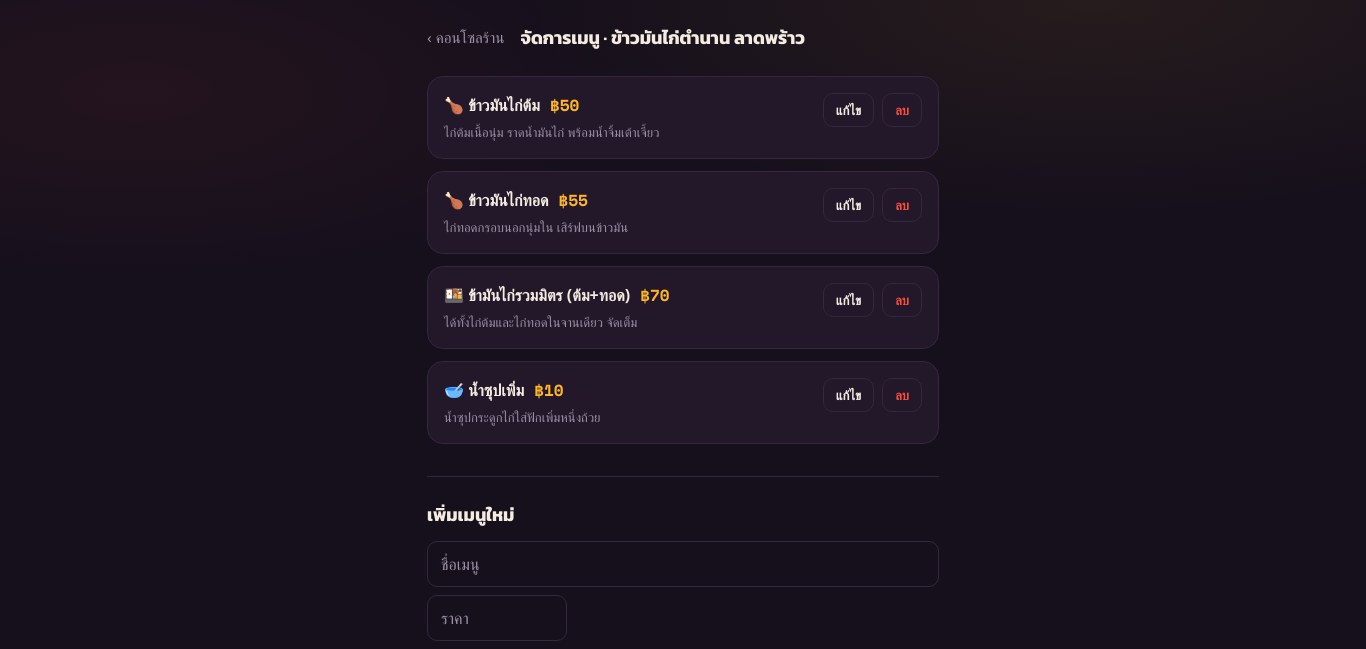
Test: MerchantMenu — จัดการเมนู (CRUD) › แก้ไขราคา → อัปเดตในลิสต์
The image size is (1366, 649).
Click the button with aria-label "แก้ไข ข้าวมันไก่ต้ม" at (848, 110), box [823,93,874,127]
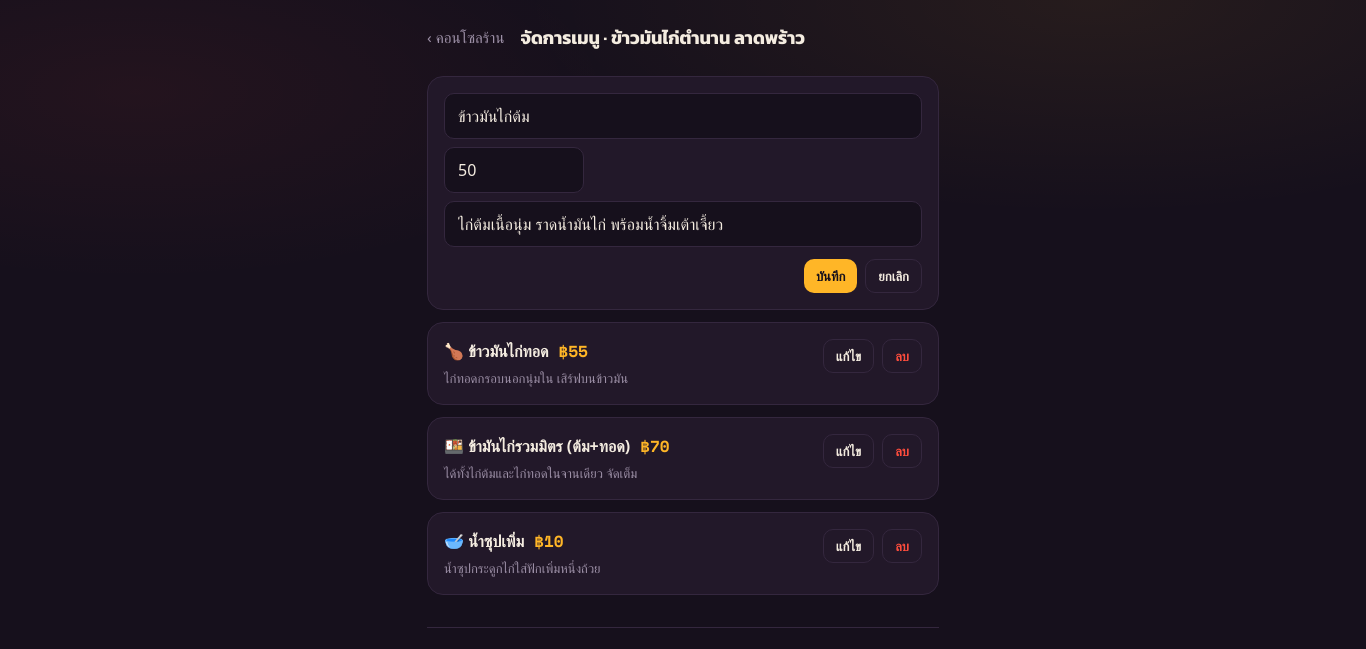
Replace the text in the field named "ราคา" with "60" at (514, 170), box [444,147,584,193]
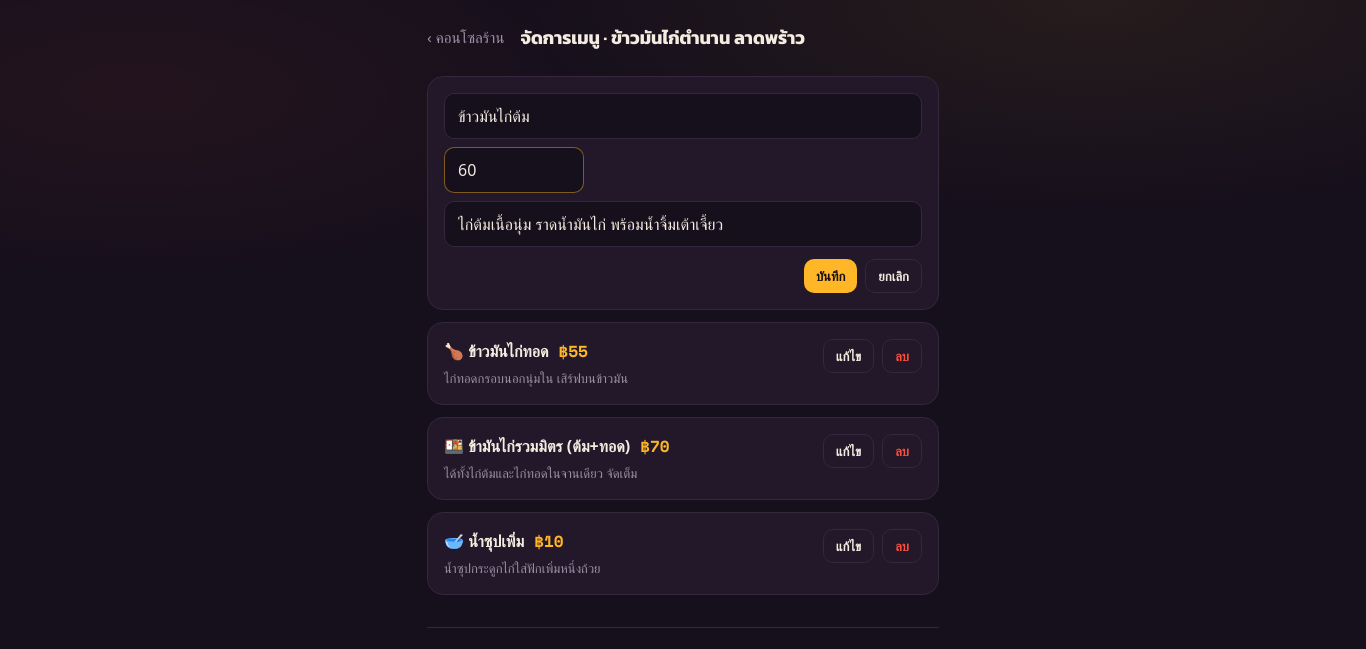
Click the button "บันทึก" at (831, 276), box [804,259,857,293]
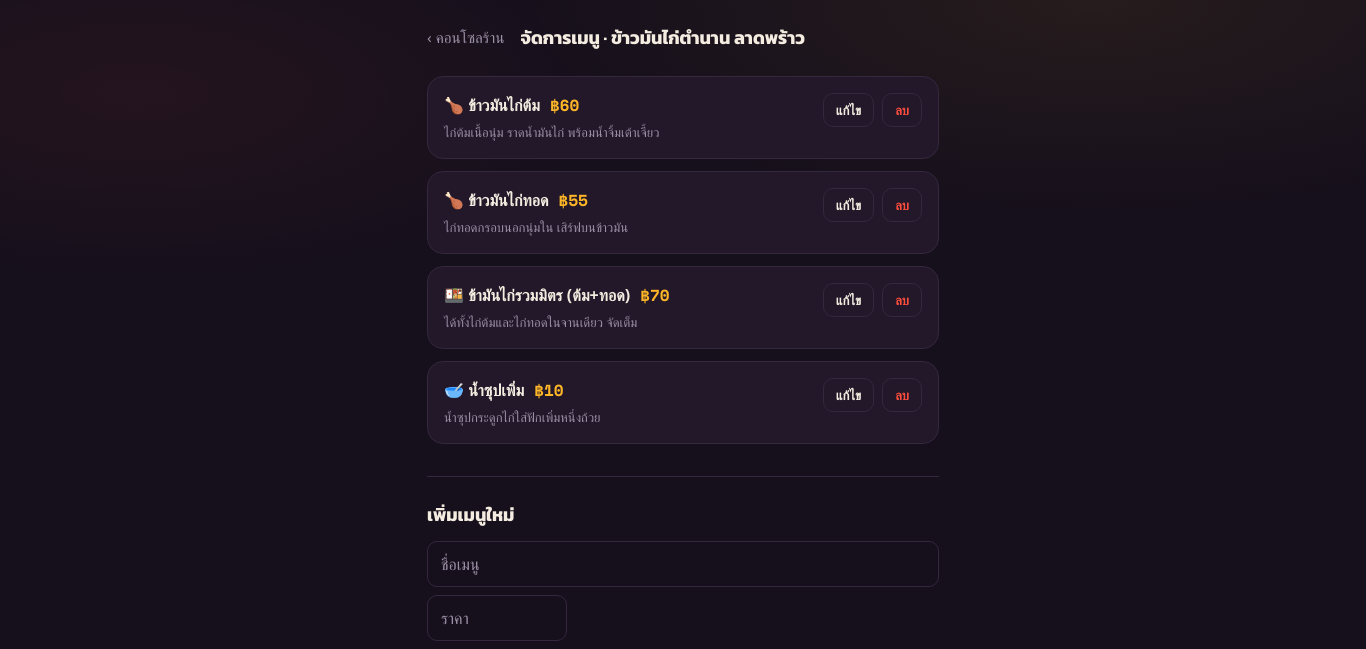
Expected: the text "฿60" is shown, [550,93,579,117]
